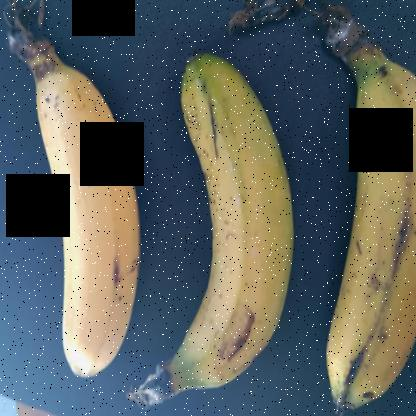freshripe: (32, 36, 146, 410)
ripe: (162, 3, 300, 391), (327, 85, 415, 408)
